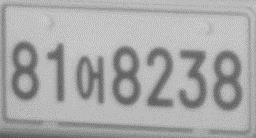1: (46, 42, 66, 103)
2: (146, 46, 174, 107)
3: (176, 49, 207, 110)
8: (111, 45, 142, 106), (212, 50, 243, 111), (10, 40, 39, 100)
어: (75, 54, 105, 105)
